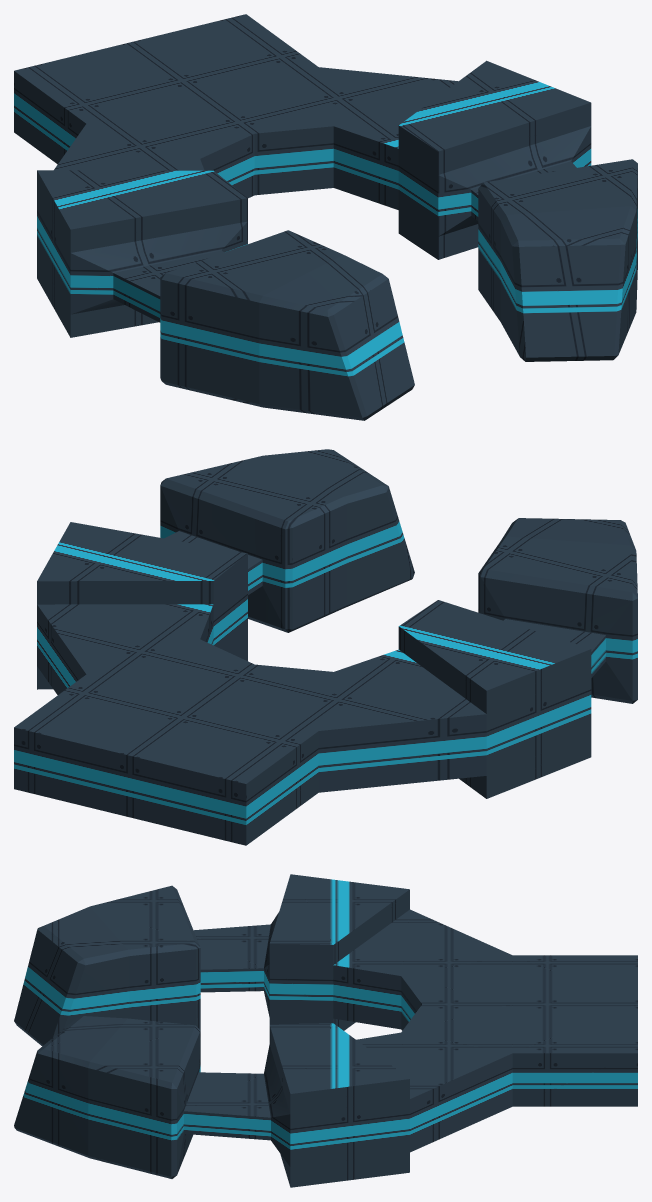
Rendered from Brazo_Inferior.obj.
The picture shows the model from 3 angles, top to bottom: view 1: azimuth 30°, elevation 25°; view 2: azimuth 150°, elevation 25°; view 3: azimuth 270°, elevation 25°; orthographic projection. The views are drawn at different scales.
Parts seen in each view (by area): view 1: mount2_Cube.003; view 2: mount2_Cube.003; view 3: mount2_Cube.003.
Part boxes in pixels (x1,y1,x2,y2): mount2_Cube.003: [14, 14, 637, 420]; mount2_Cube.003: [14, 449, 637, 845]; mount2_Cube.003: [14, 874, 637, 1187].
Size of the model in its own units: 7.34 by 1.5 by 8.81.
Materials: 1 (1 with a texture image).
